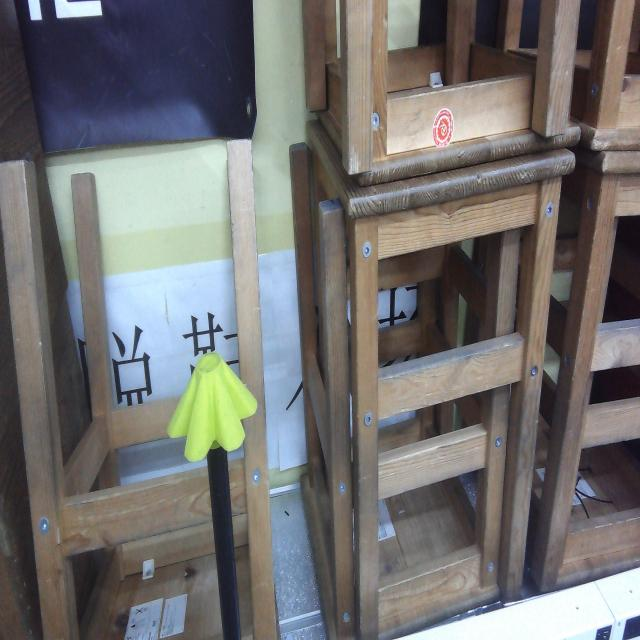Yellow-Stake-Head: (166, 353, 258, 462)
